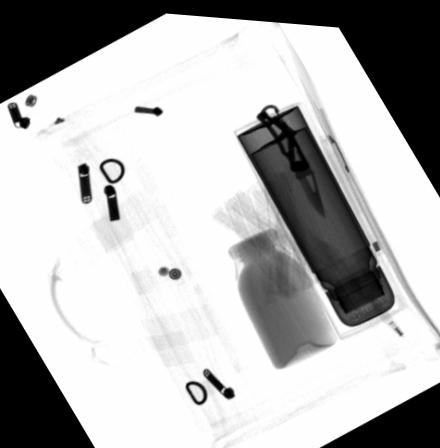Knife: (255, 97, 327, 213)
